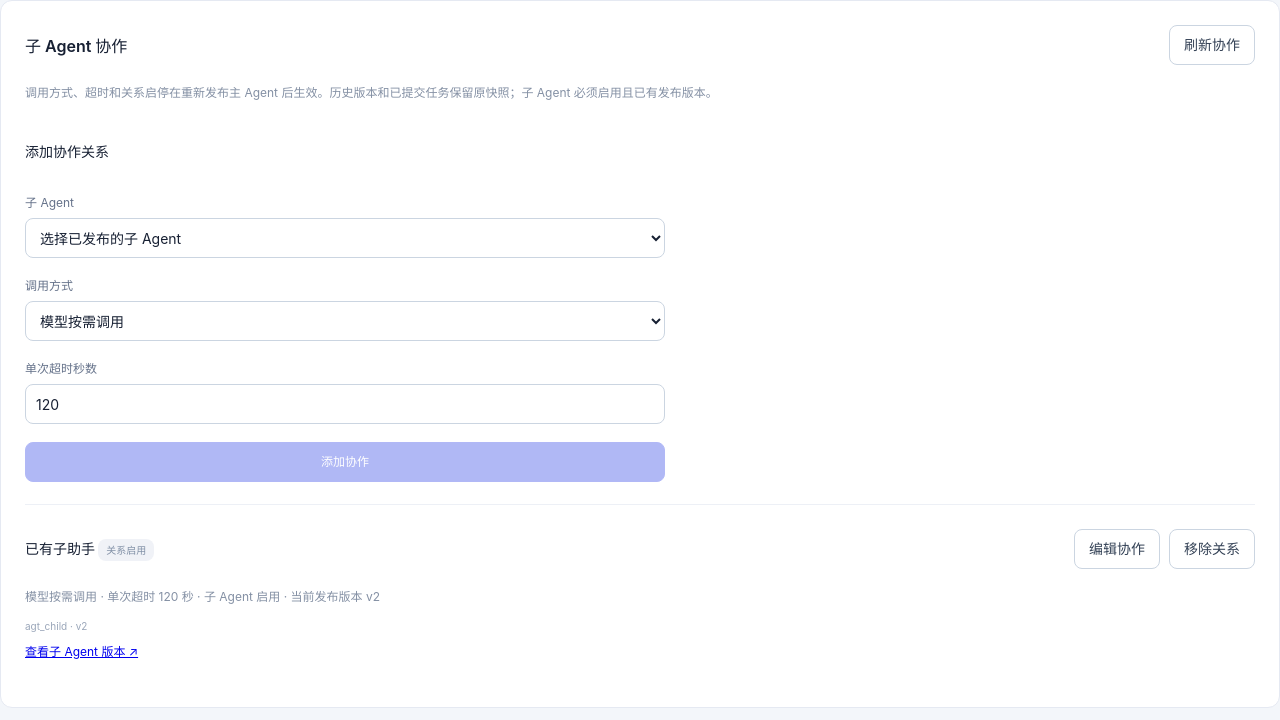
it: edits mode timeout and enabled state without changing the selected child
This screenshot has width=1280, height=720.
Click the button "编辑协作".
click(1117, 549)  # box [1074,529,1160,569]
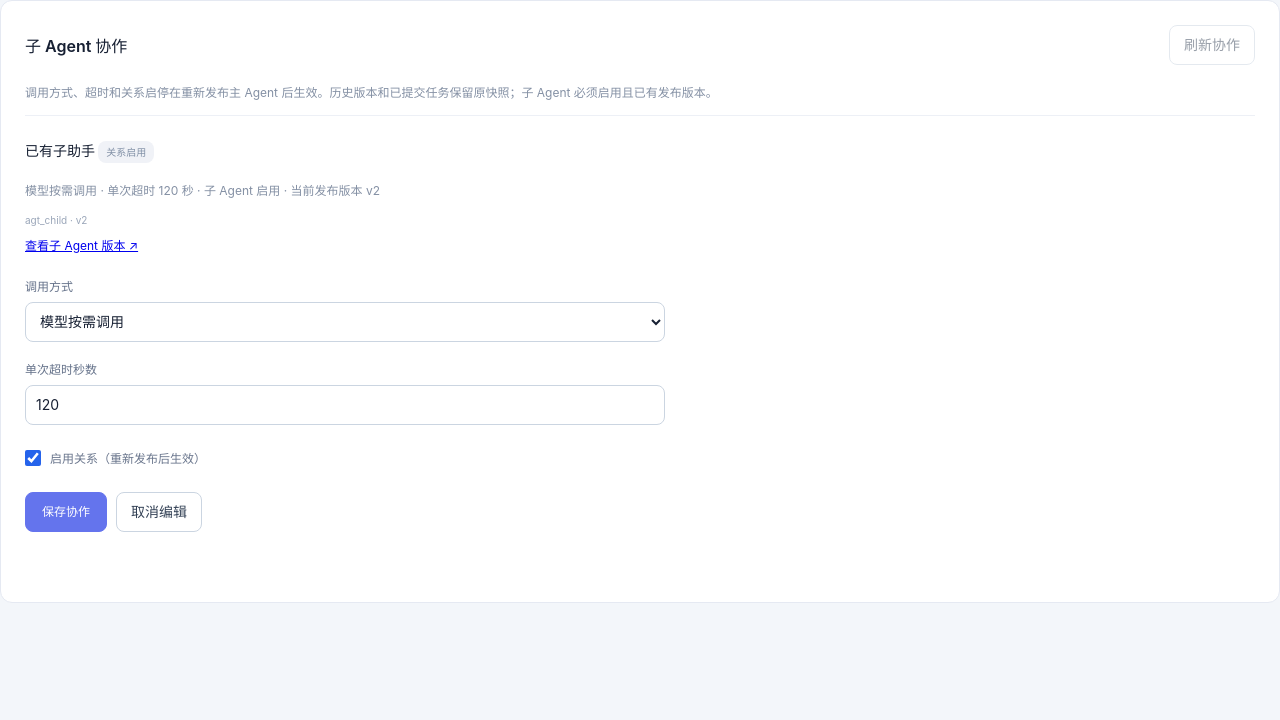
Select "预先并行执行" in the dropdown labelled "调用方式" at (345, 322), box [25,302,665,342]
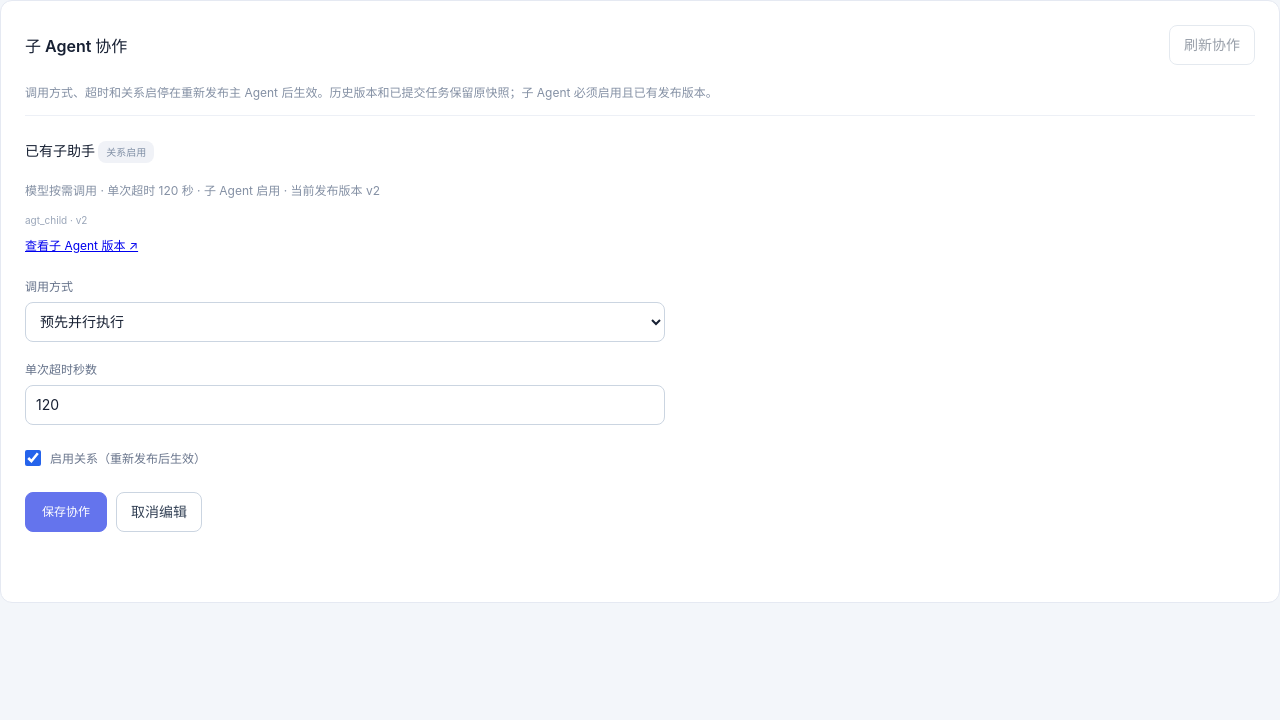
Replace the text in the number field labelled "单次超时秒数" with "31" at (345, 405), box [25,385,665,425]
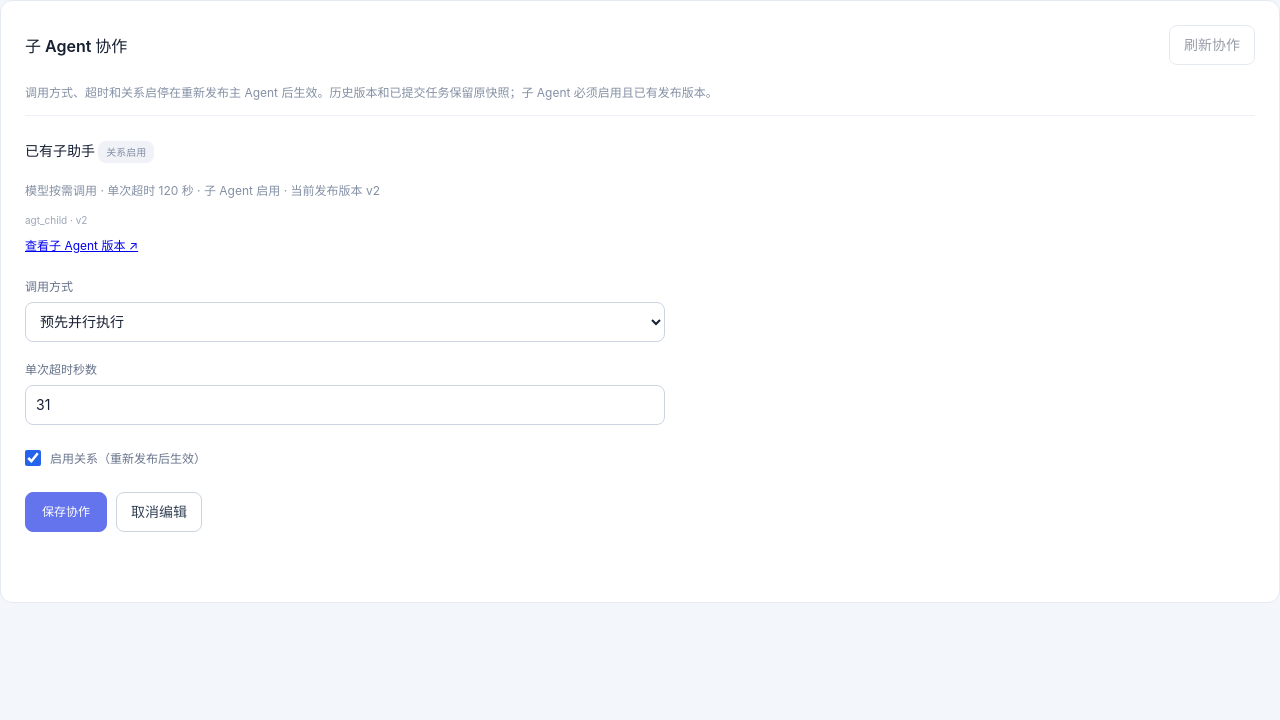
Click the checkbox labelled "启用关系（重新发布后生效）".
click(33, 458)  # box [25,450,41,466]
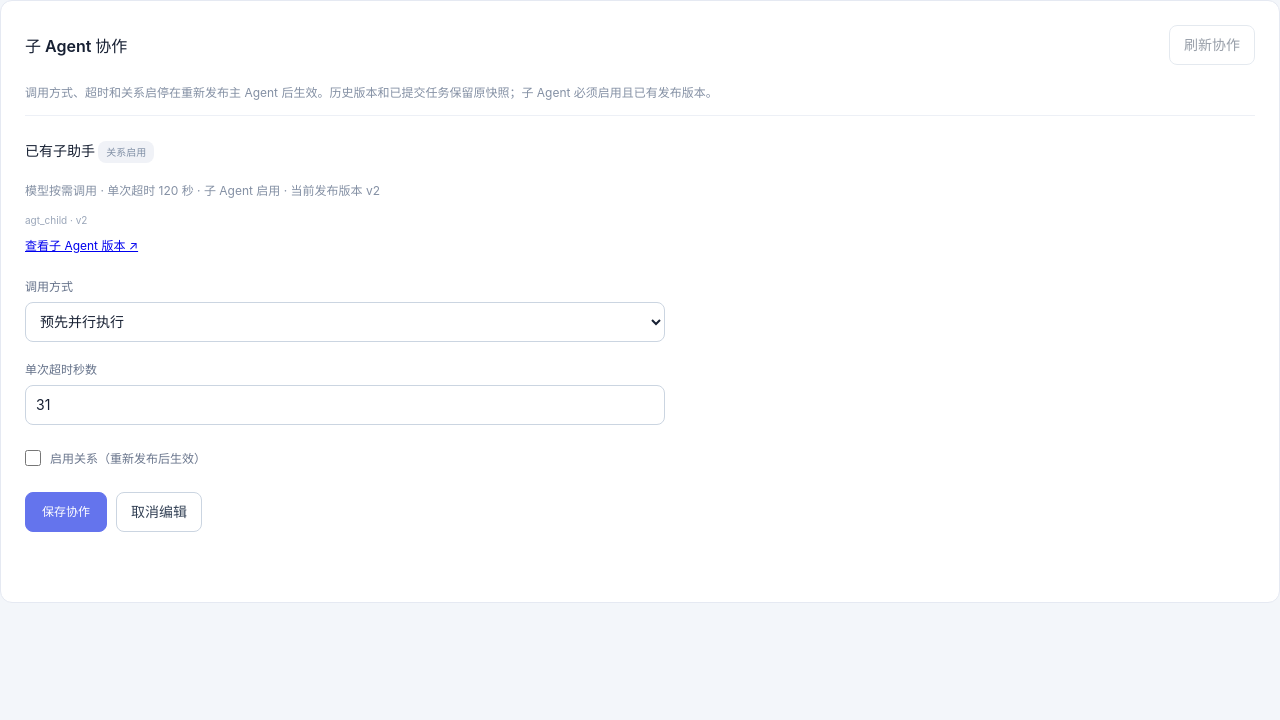
Submit the form with class "collaboration-edit", box [25,277,665,532]
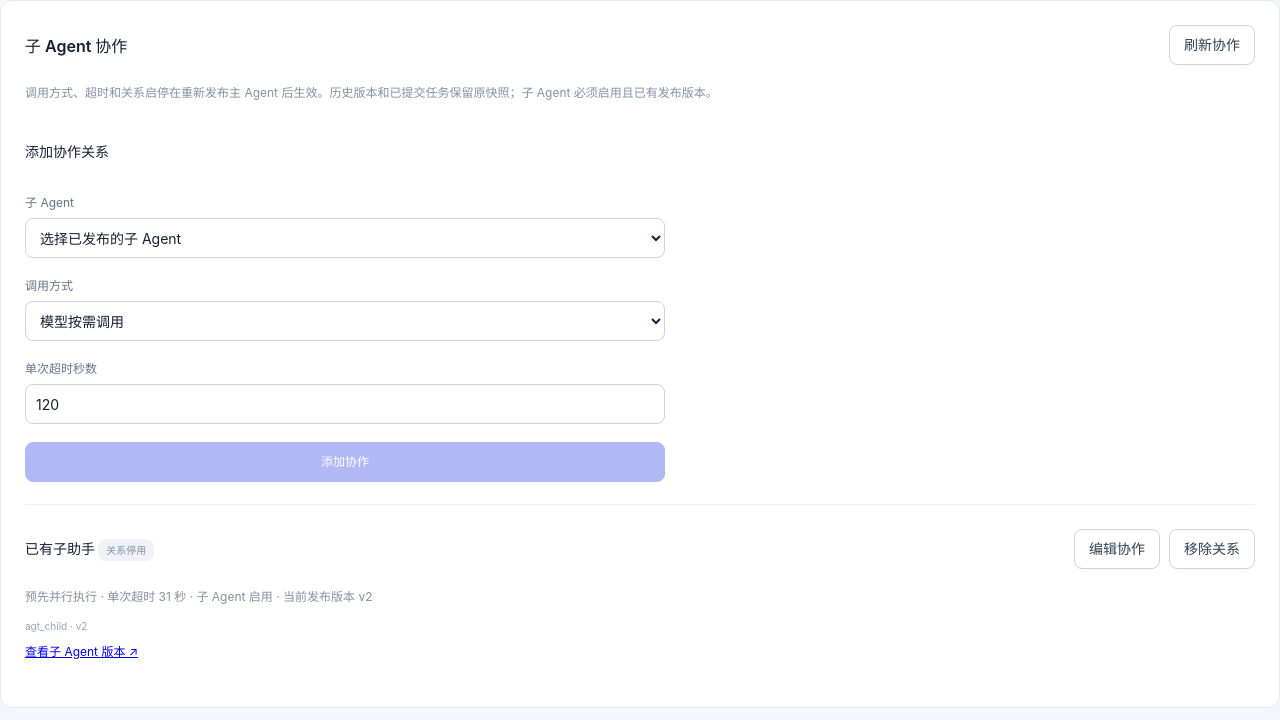
Expected: the text "当前发布版本 v2" is shown, [25,589,372,604]
Expected: the text "关系停用" is shown, [98,539,154,561]
Expected: the text "单次超时 31 秒" is shown, [25,589,372,604]
